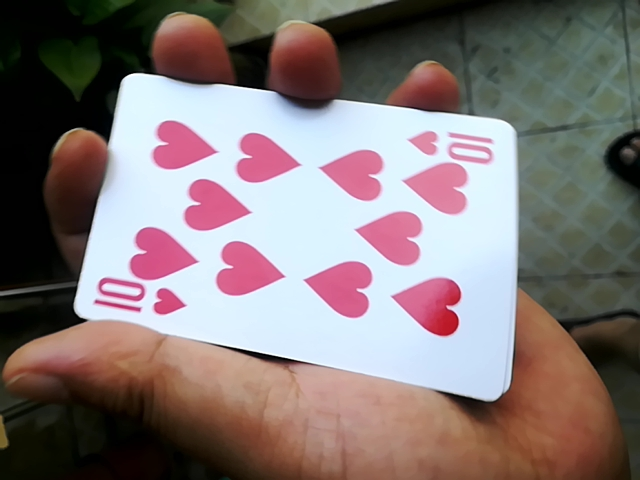hx 10: (59, 78, 508, 383)
